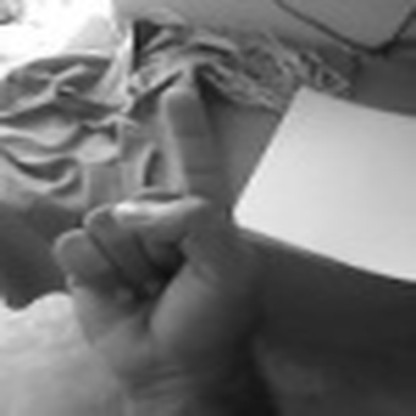d: (44, 85, 259, 405)
